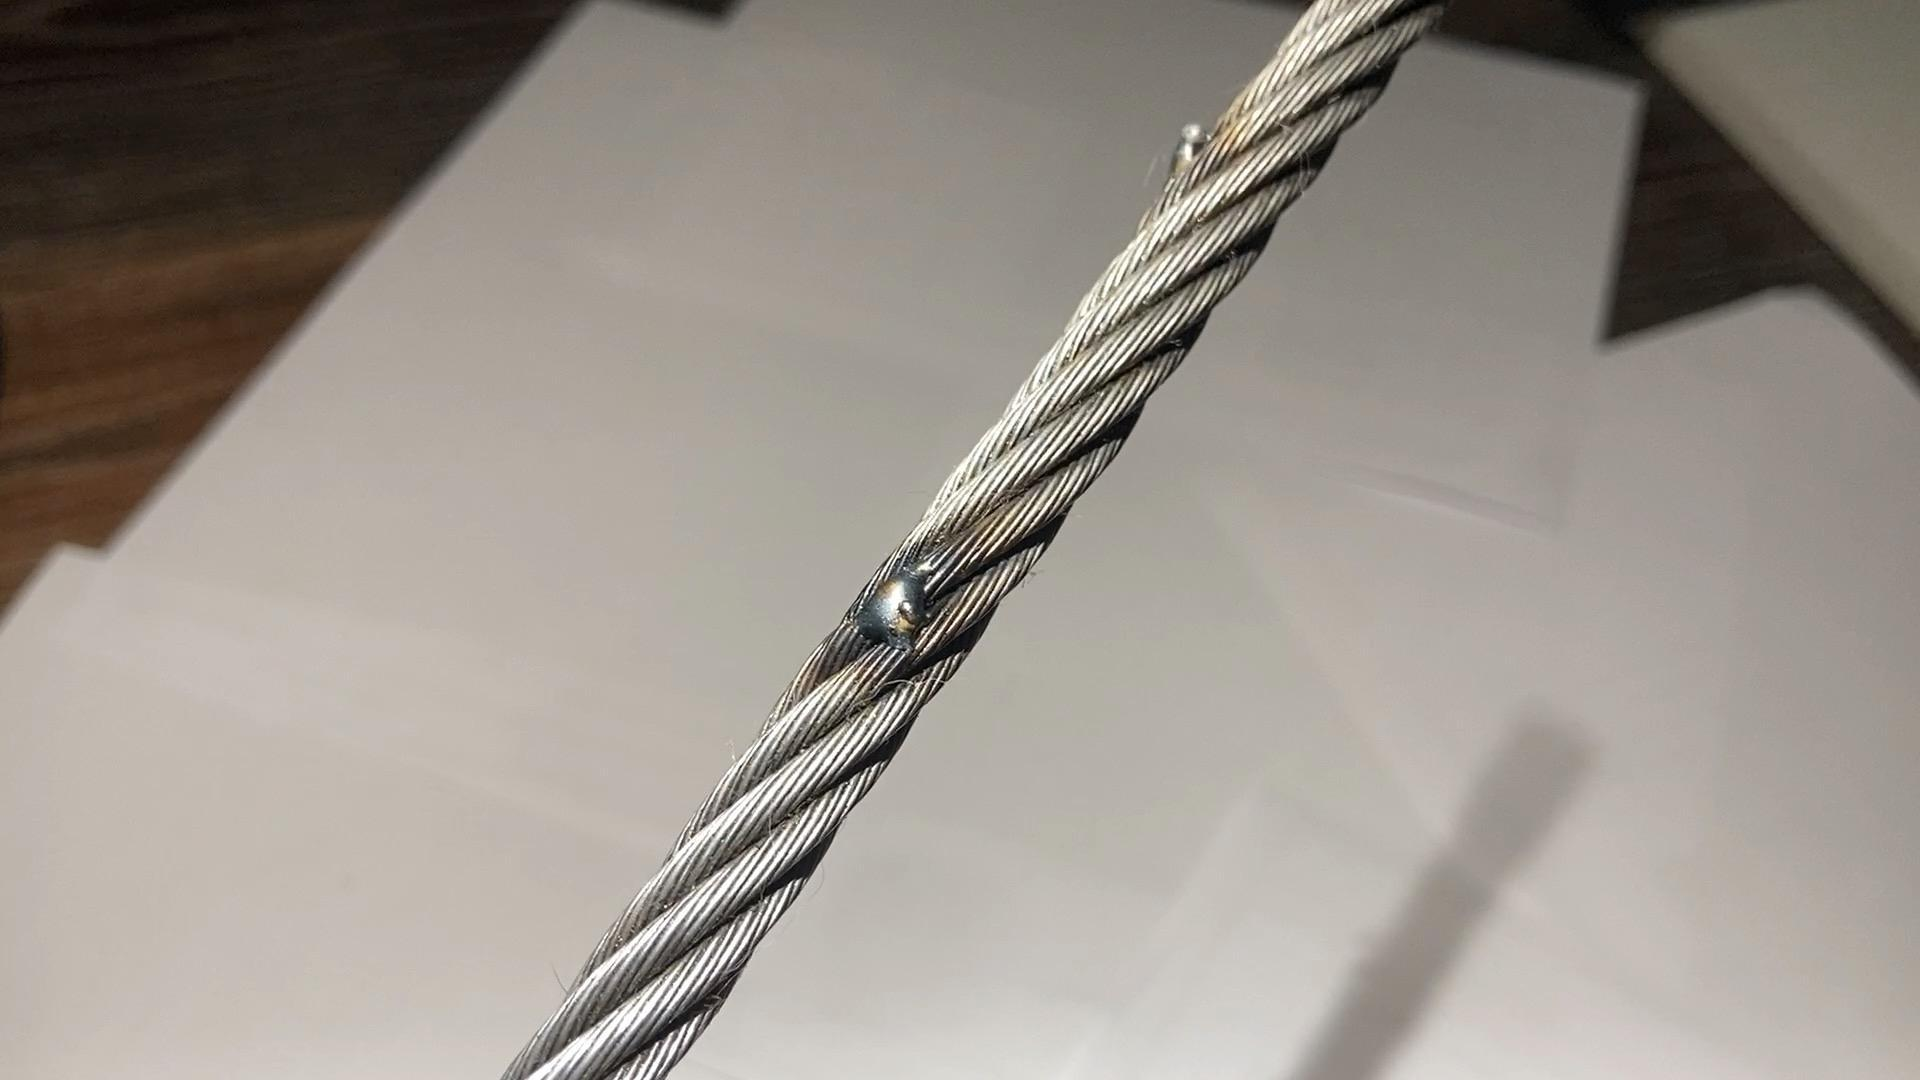thunderbolt: (841, 553, 964, 640)
